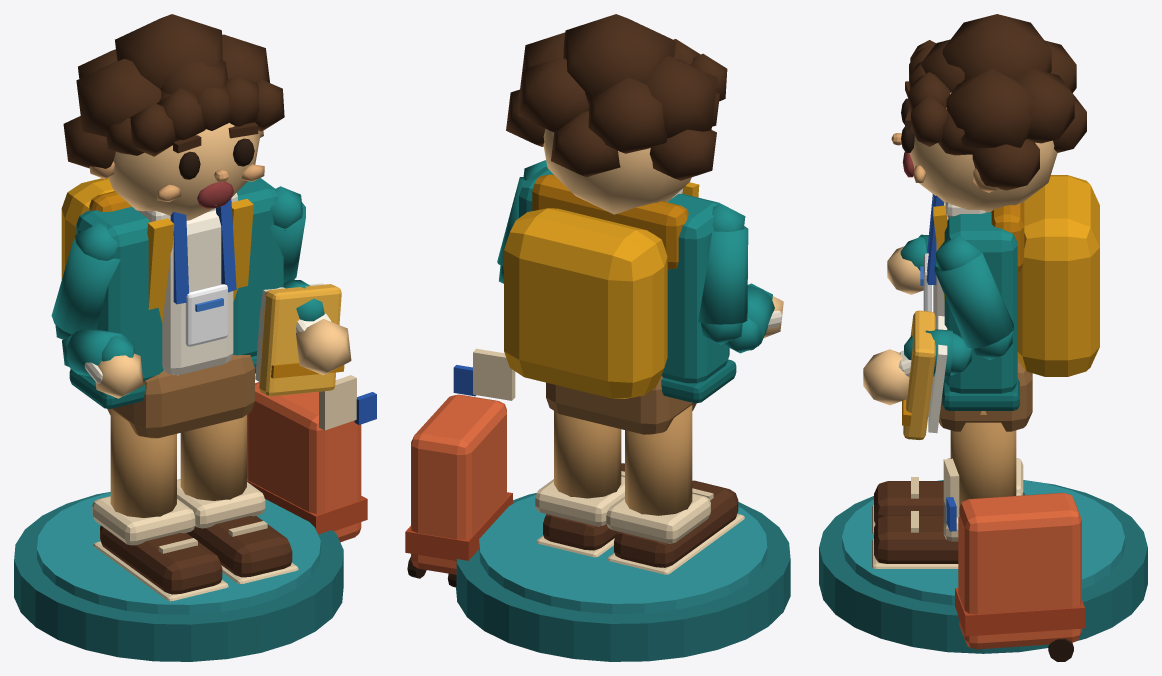
File: traveler.glb
The picture shows the model from 3 angles, left to right: view 1: azimuth 30°, elevation 25°; view 2: azimuth 150°, elevation 25°; view 3: azimuth 270°, elevation 25°; orthographic projection. The views are drawn at different scales.
Parts seen in each view (by area): view 1: RA_TravelerBody, RA_TravelerHead, RA_TravelerCase; view 2: RA_TravelerBody, RA_TravelerHead, RA_TravelerCase; view 3: RA_TravelerBody, RA_TravelerHead, RA_TravelerCase.
Boxes of the visible parts, <box> form: RA_TravelerBody: <box>14,177,351,661</box>; RA_TravelerHead: <box>63,14,284,220</box>; RA_TravelerCase: <box>247,375,376,542</box>; RA_TravelerBody: <box>456,160,790,661</box>; RA_TravelerHead: <box>506,14,727,214</box>; RA_TravelerCase: <box>405,348,515,587</box>; RA_TravelerBody: <box>819,175,1147,653</box>; RA_TravelerHead: <box>891,14,1086,212</box>; RA_TravelerCase: <box>943,458,1084,661</box>.
Size of the model in its own units: 0.669 by 1.13 by 0.5904.
